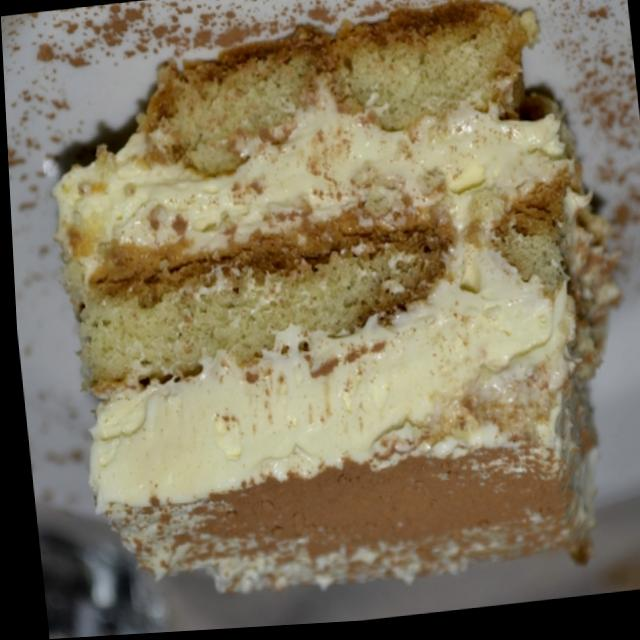蛋糕甜品: (21, 0, 640, 639)
